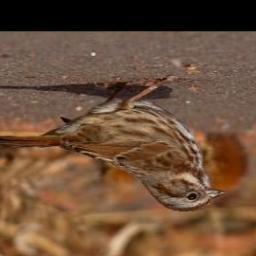Sparrow: (0, 75, 225, 217)
